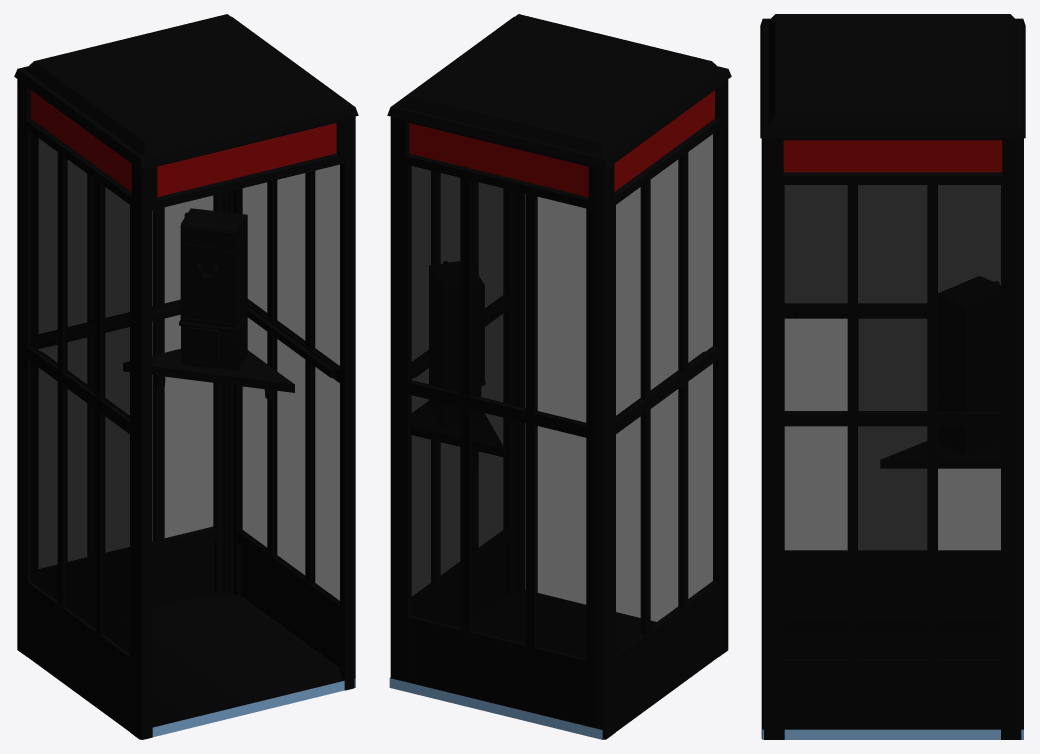
Rendered from SM_PayPhone.fbx.
The picture shows the model from 3 angles, left to right: view 1: azimuth 30°, elevation 25°; view 2: azimuth 150°, elevation 25°; view 3: azimuth 270°, elevation 25°; orthographic projection. The views are drawn at different scales.
Parts seen in each view (by area): view 1: Phonebooth_Box; view 2: Phonebooth_Box; view 3: Phonebooth_Box.
Part boxes in pixels (x1,y1,x2,y2): Phonebooth_Box: (14, 14, 358, 739); Phonebooth_Box: (387, 14, 731, 739); Phonebooth_Box: (760, 14, 1025, 739).
Bounding box in the file's own units: 2841 × 7333 × 2841.
